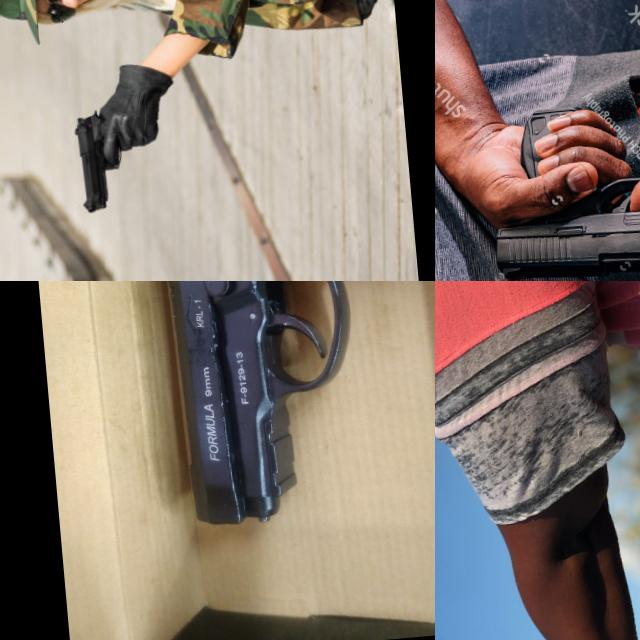handgun: (137, 281, 435, 542), (482, 160, 640, 281), (68, 104, 128, 214)
